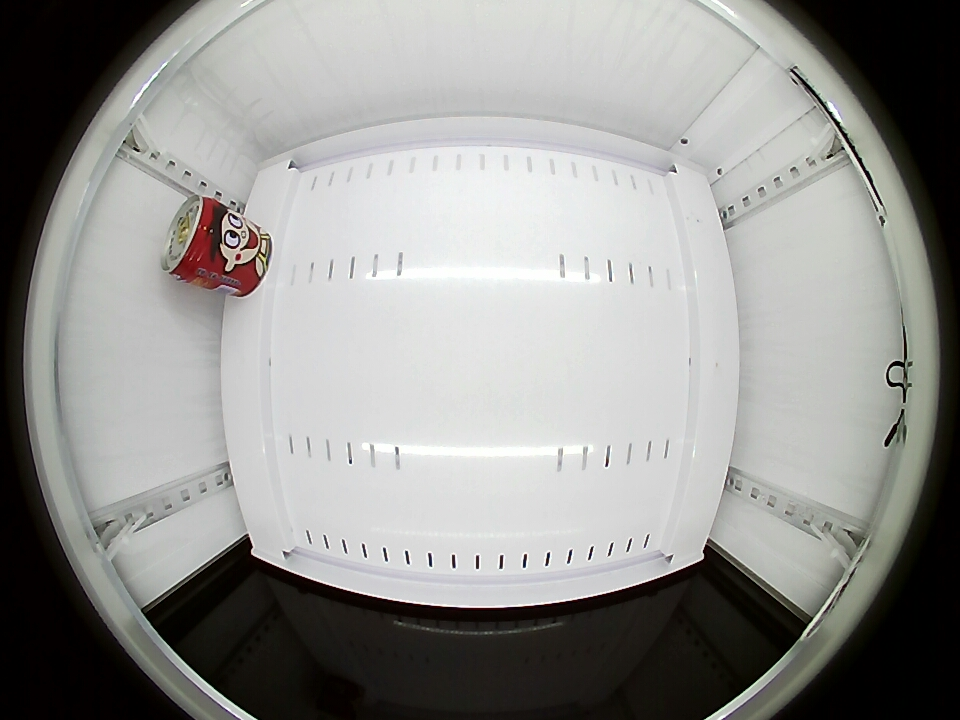wangzainiunai: (161, 194, 228, 285)
